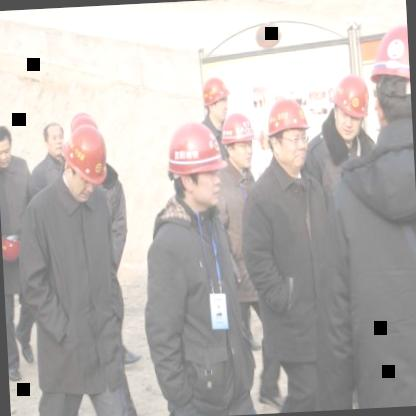head: (40, 118, 66, 161), (0, 120, 15, 167)
helmet: (164, 117, 224, 211), (364, 17, 412, 118), (60, 116, 110, 206), (262, 93, 314, 174), (328, 70, 372, 142), (218, 106, 257, 173), (199, 74, 234, 126)
